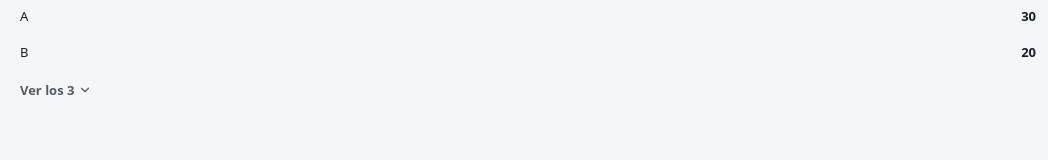
Test case: 14 ListaClasificada y 15 LineaTiempo › ordena de mayor a menor y guarda el resto detrás de «Ver los N»
Click the button "Ver los 3": (56, 90) top-left (12, 76), bottom-right (100, 104)
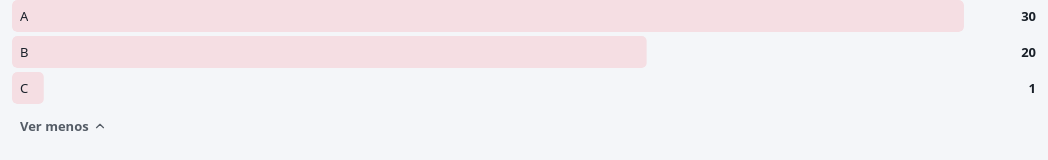
Result: the button "Ver menos" is shown at top-left (12, 112), bottom-right (115, 140)
